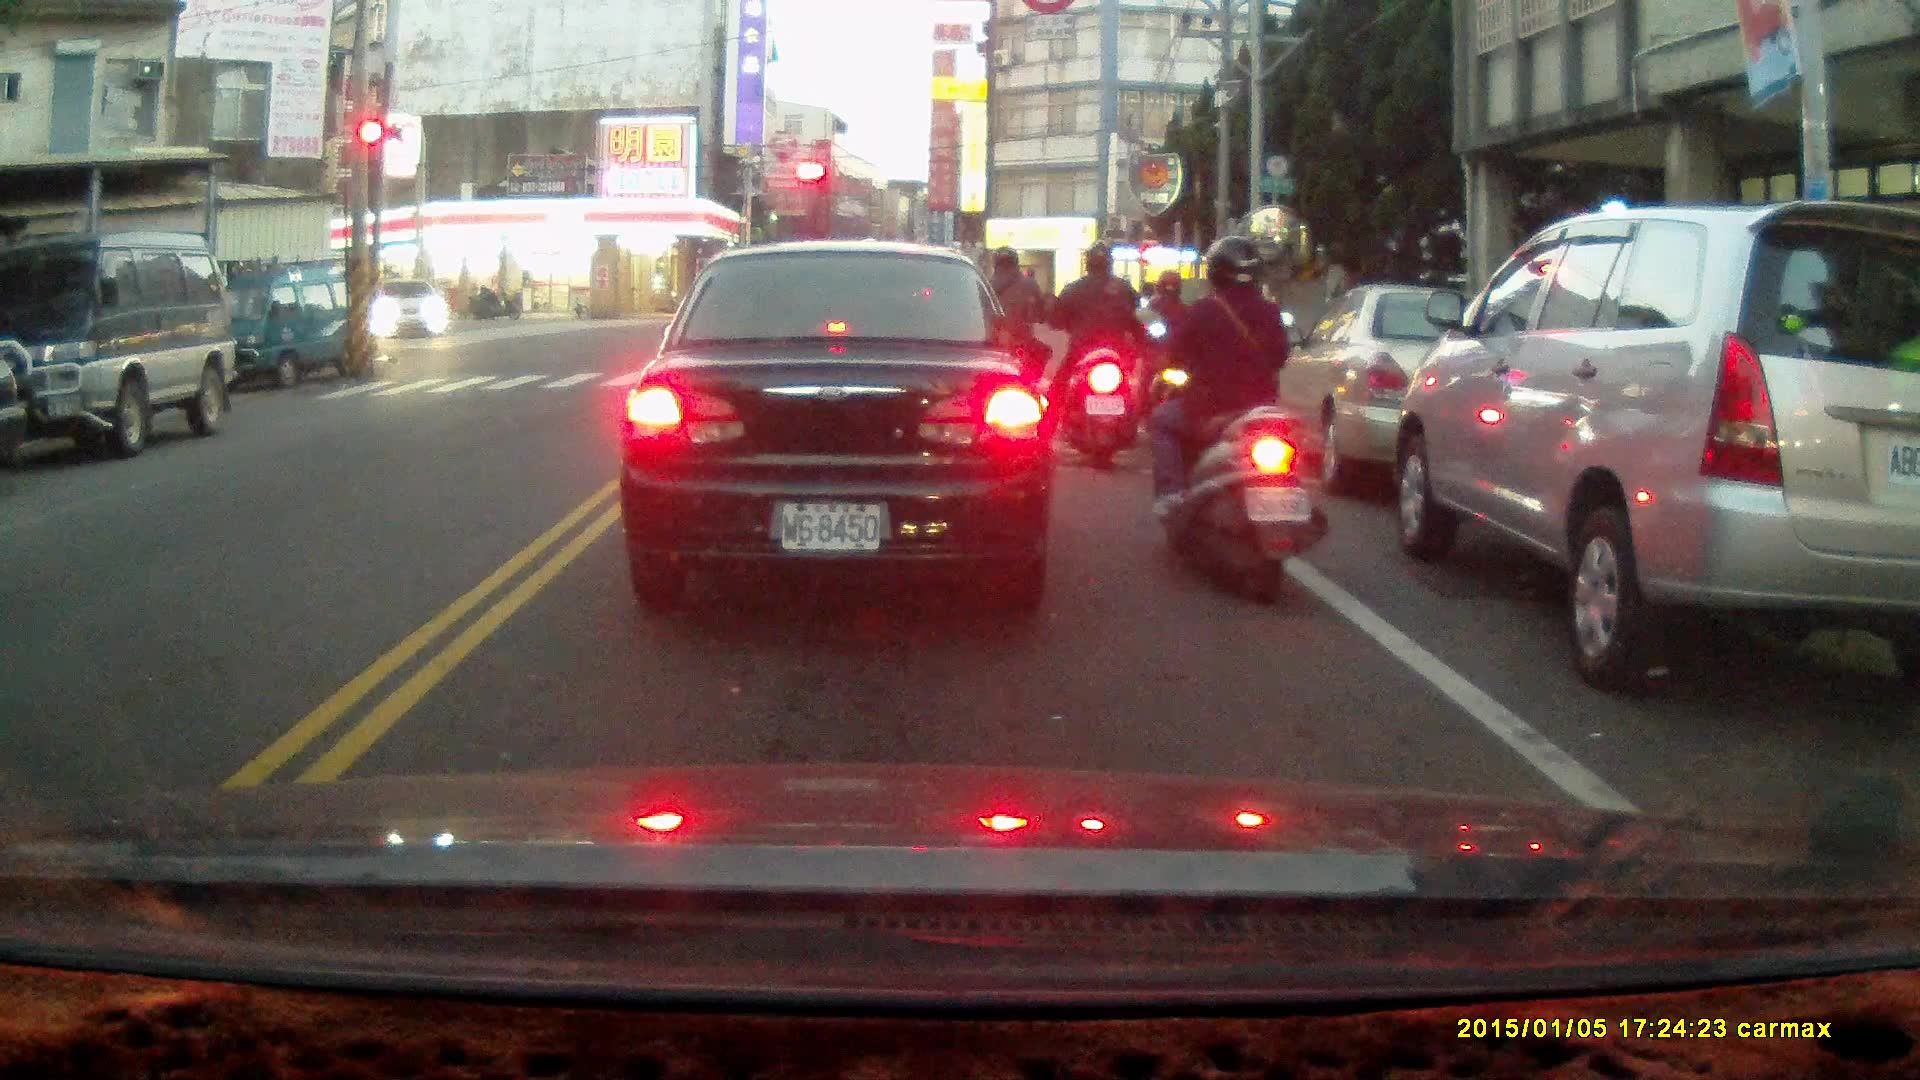rider: (1133, 233, 1330, 607), (1048, 242, 1141, 468), (960, 240, 1055, 438), (1134, 269, 1204, 450), (469, 277, 518, 322)
vehicle: (1374, 195, 1920, 685), (617, 243, 1061, 606), (1, 234, 239, 458), (194, 255, 381, 393), (372, 277, 451, 343)
